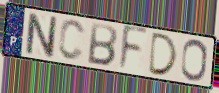B: (85, 21, 119, 68)
C: (57, 18, 87, 63)
D: (146, 31, 179, 78)
F: (117, 23, 149, 73)
N: (25, 11, 58, 61)
O: (179, 38, 208, 83)
